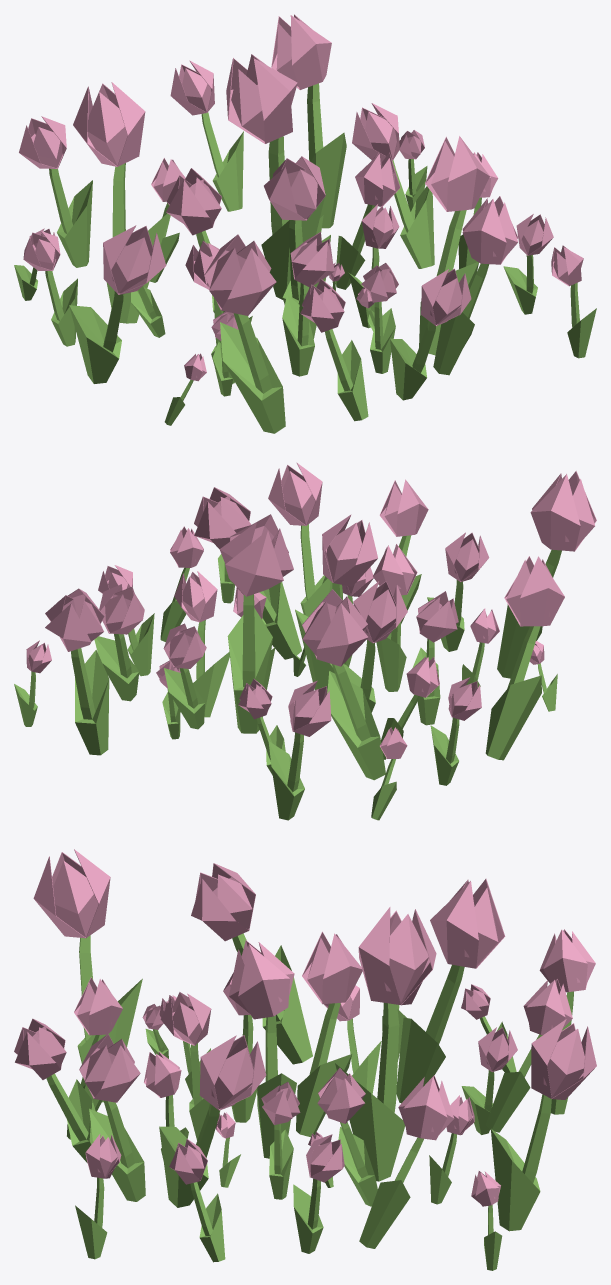
The model's file is FlowerPink.fbx.
3 views of the same model, one above another, from view 1: azimuth 30°, elevation 25°; view 2: azimuth 150°, elevation 25°; view 3: azimuth 270°, elevation 25° (orthographic). The views are drawn at different scales.
Visible parts, largest first — view 1: Circle.017; view 2: Circle.017; view 3: Circle.017.
Part boxes in pixels (x1=…): Circle.017: x1=14, y1=14, x2=596, y2=433; Circle.017: x1=14, y1=463, x2=596, y2=820; Circle.017: x1=14, y1=849, x2=596, y2=1270.
Bounding box in the file's own units: 109 × 56.6 × 114.
